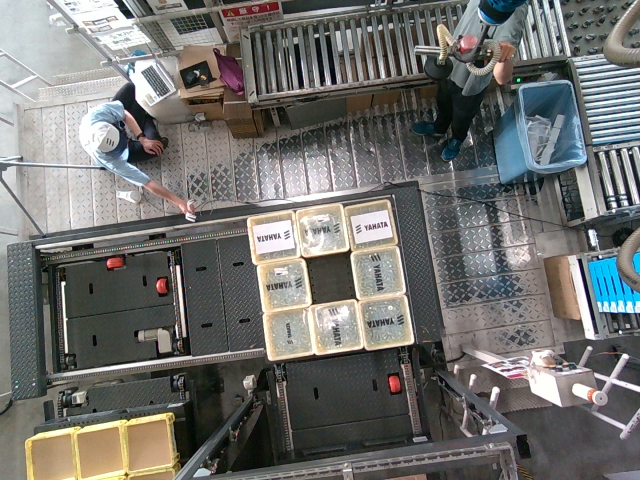box: (246, 212, 298, 259), (344, 200, 396, 247), (296, 204, 348, 251), (257, 261, 309, 308), (262, 310, 314, 357), (308, 302, 360, 349), (350, 247, 402, 294), (361, 297, 413, 344)
